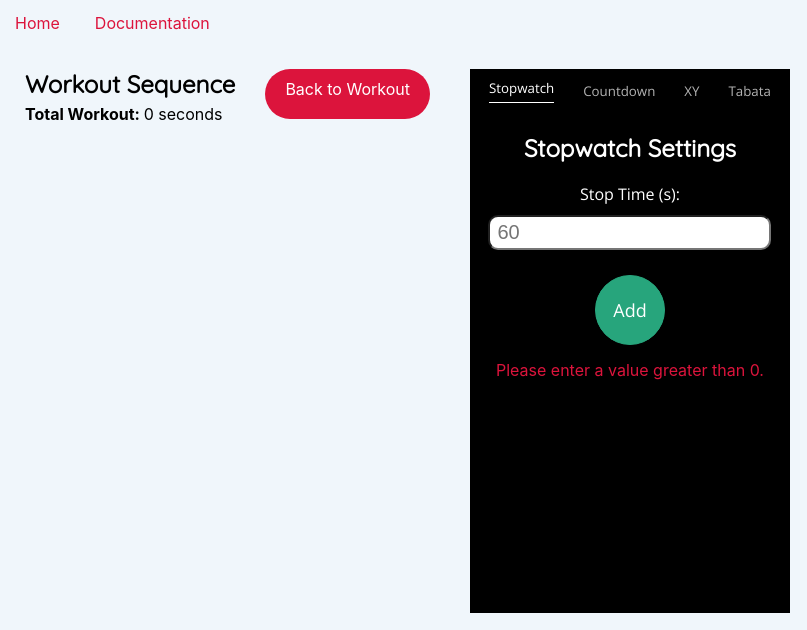
Test: Form › it has a Countdown form
The image size is (807, 630).
Click the button "Countdown".
click(619, 91)  # box left=583, top=82, right=655, bottom=100
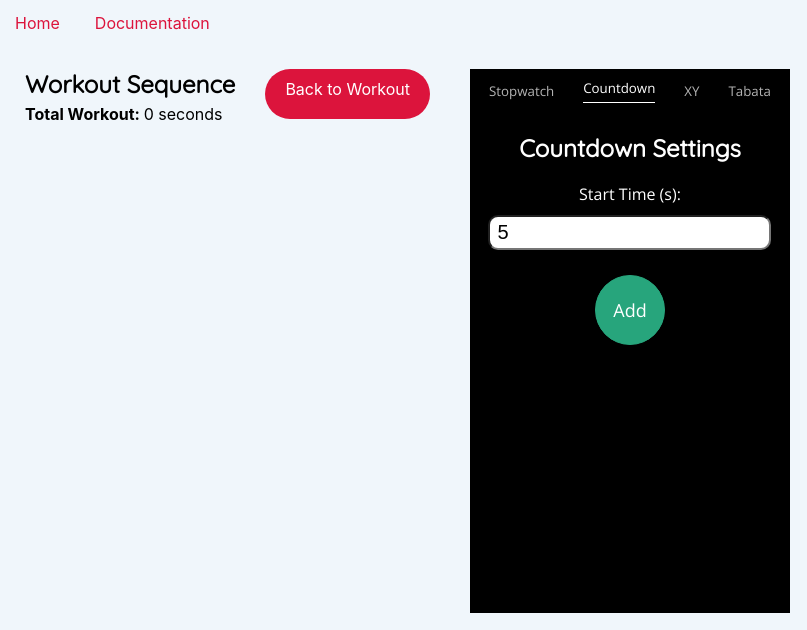
Now the heading "Countdown Settings" is shown, box left=519, top=133, right=741, bottom=163
